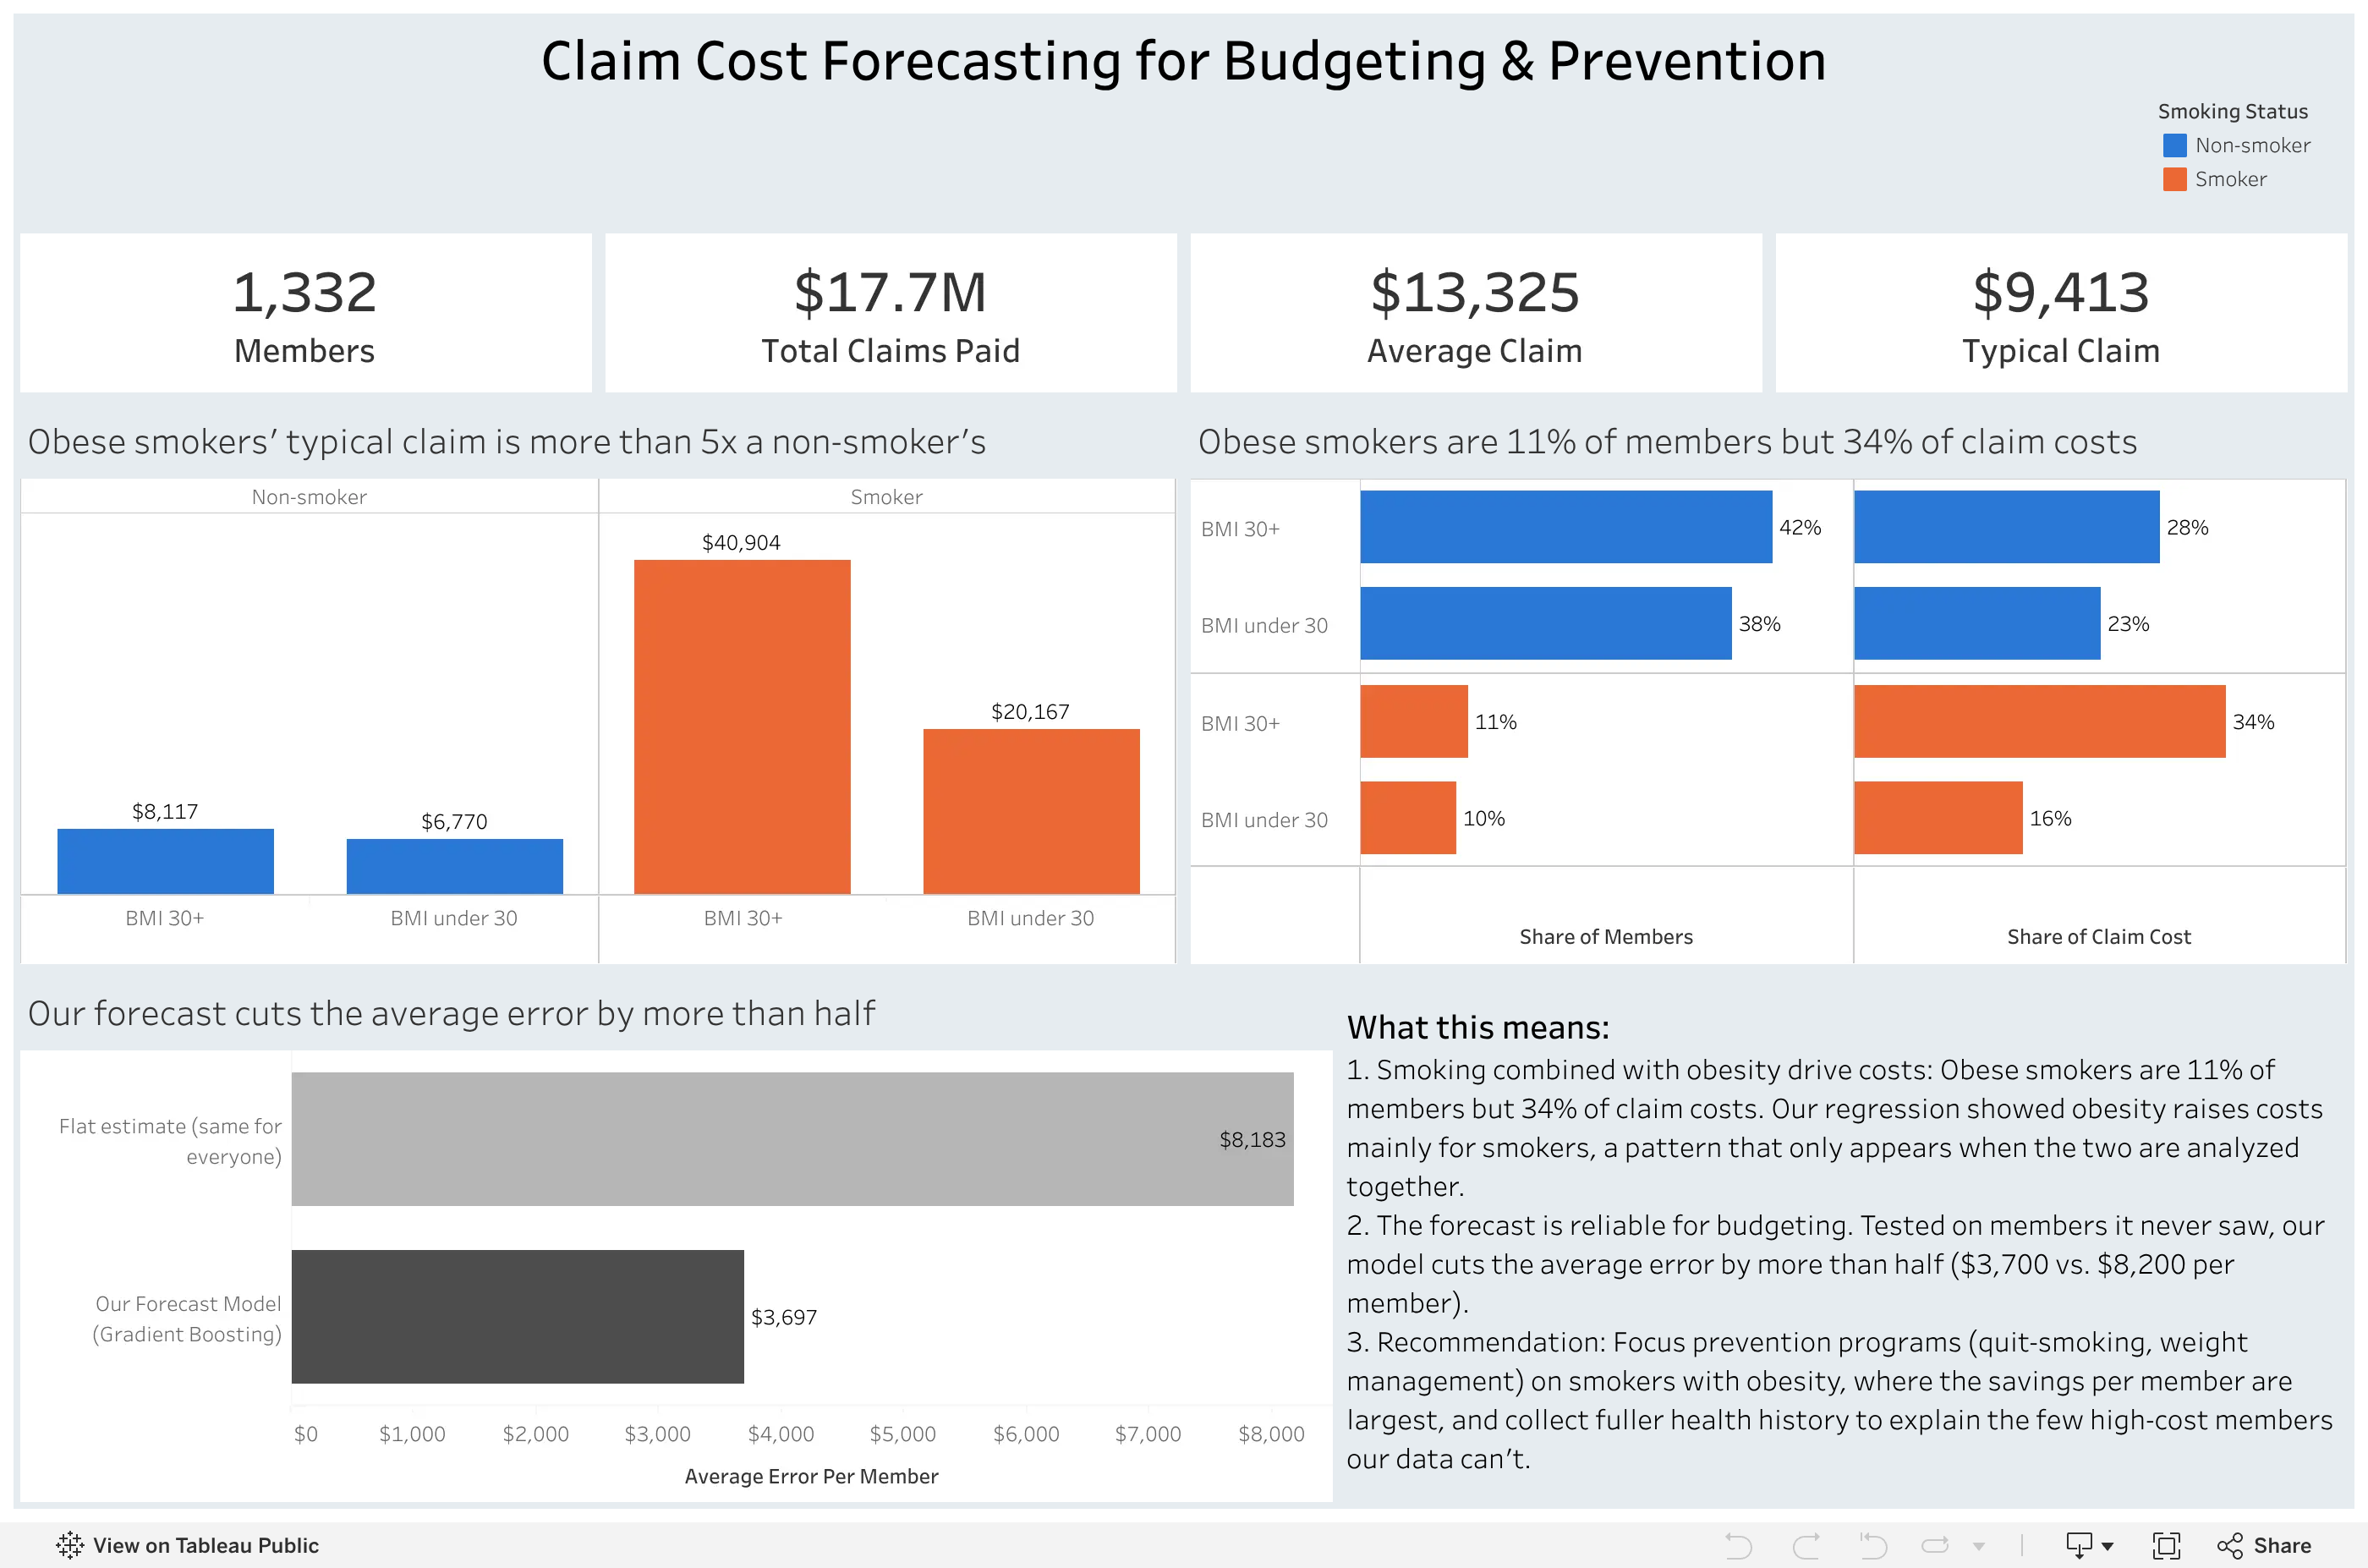

What the dashboard file says about the page in this screenshot:
{"tool":"tableau","page":{"name":"Dashboard 1","canvas":[1400,900],"ordinal":0},"visuals":[{"type":"text","box":[8,8,1384,52]},{"type":"legend","title":"Obese smokers are 11% of members but 34% of claim costs","param":"[federated.03f2bpx0wtzvge1aput9o1m8bo4c].[none:smoking_status:nk]","box":[1276,57,117,80]},{"type":"worksheet","title":"Members","mark":"Automatic","box":[8,134,346,102]},{"type":"worksheet","title":"Total Claims Paid","mark":"Automatic","box":[354,134,346,102]},{"type":"worksheet","title":"Average Claim Per Member","mark":"Automatic","box":[700,134,346,102]},{"type":"worksheet","title":"Typical Claim Per Member(Median)","mark":"Automatic","box":[1046,134,346,102]},{"type":"worksheet","title":"Obese smokers' typical claim is more than 5x a non-smoker's","mark":"Automatic","rows":["claim_amount"],"cols":["smoking_status","bmi_group"],"box":[8,236,692,338]},{"type":"worksheet","title":"Obese smokers are 11% of members but 34% of claim costs","mark":"Automatic","rows":["smoking_status","bmi_group"],"cols":["tableau_members.csv_D72A866D19CF44F7905F76B76215AEAE","claim_amount"],"box":[700,236,692,338]},{"type":"worksheet","title":"Our forecast cuts the average error by more than half","mark":"Automatic","rows":["approach"],"cols":["avg_error_per_member"],"box":[8,574,748,318]},{"type":"text","box":[756,574,636,318]}]}

Visuals, with their boxes on the page's 1400x900 design canvas (x1, y1, x2, y2). These are canvas units, not pixel positions in the 2368x1568 screenshot, which may show the page scaled, cropped or inside an application window:
text: 8:8:1392:60
"Obese smokers are 11% of members but 34% of claim costs" legend: 1276:57:1393:137
"Members" worksheet: 8:134:354:236
"Total Claims Paid" worksheet: 354:134:700:236
"Average Claim Per Member" worksheet: 700:134:1046:236
"Typical Claim Per Member(Median)" worksheet: 1046:134:1392:236
"Obese smokers' typical claim is more than 5x a non-smoker's" worksheet: 8:236:700:574
"Obese smokers are 11% of members but 34% of claim costs" worksheet: 700:236:1392:574
"Our forecast cuts the average error by more than half" worksheet: 8:574:756:892
text: 756:574:1392:892
